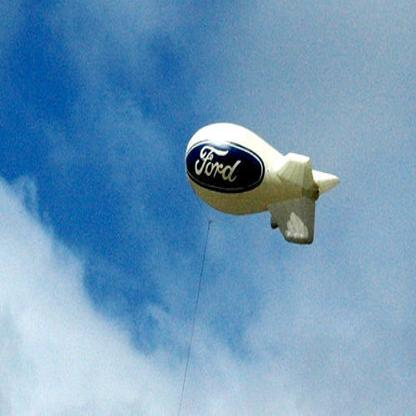Airship: (181, 118, 343, 251)
